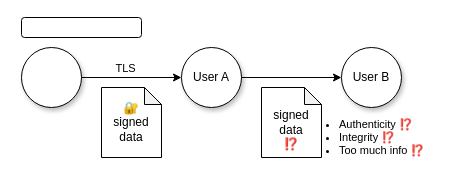
Image size: 451x186. Some labels were removed from this diagram. Each missing label, with the centre of its shape:
No Data Provenance: pixel 81 27
Server: pixel 52 78
